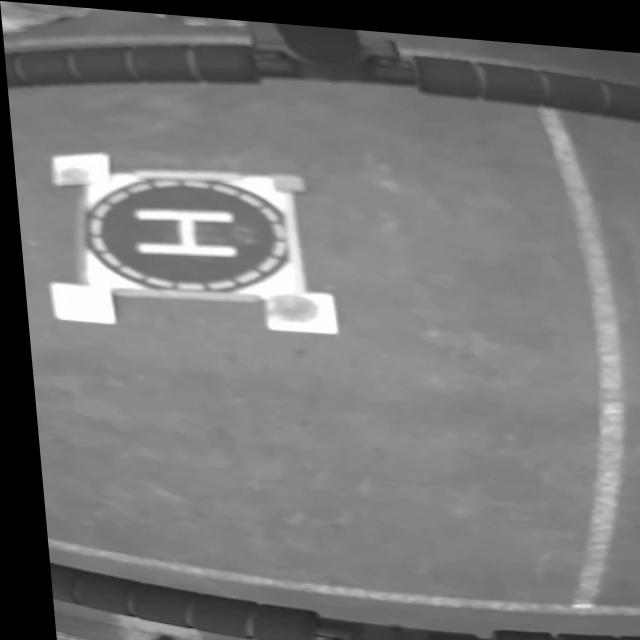Helipad: (129, 206, 234, 252)
